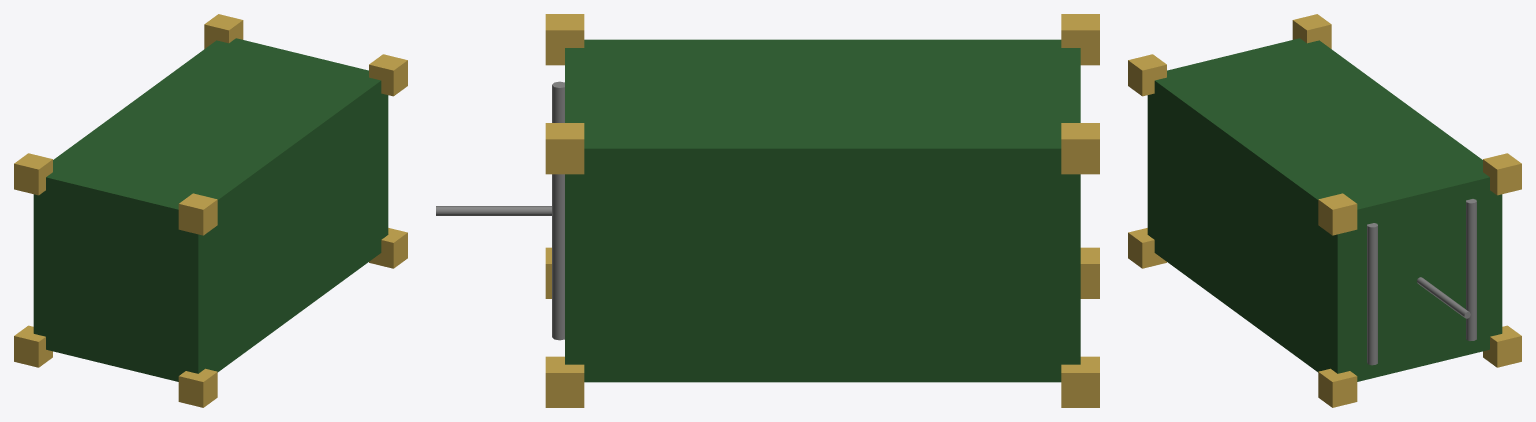
Rendered from container.glb.
3 renders of one model, left to right at view 1: azimuth 30°, elevation 25°; view 2: azimuth 150°, elevation 25°; view 3: azimuth 270°, elevation 25°, orthographic. The views are drawn at different scales.
Bounding box in the file's own units: 2.53 × 1.15 × 2.07.
